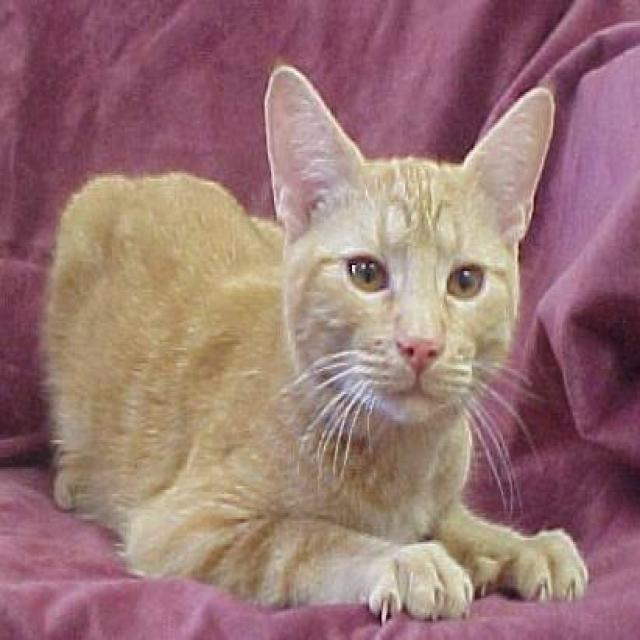cat: (38, 60, 588, 622)
